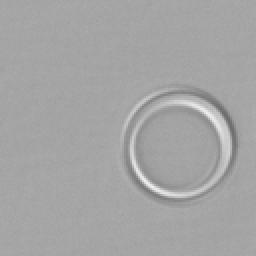picoshell: (122, 90, 236, 200)
